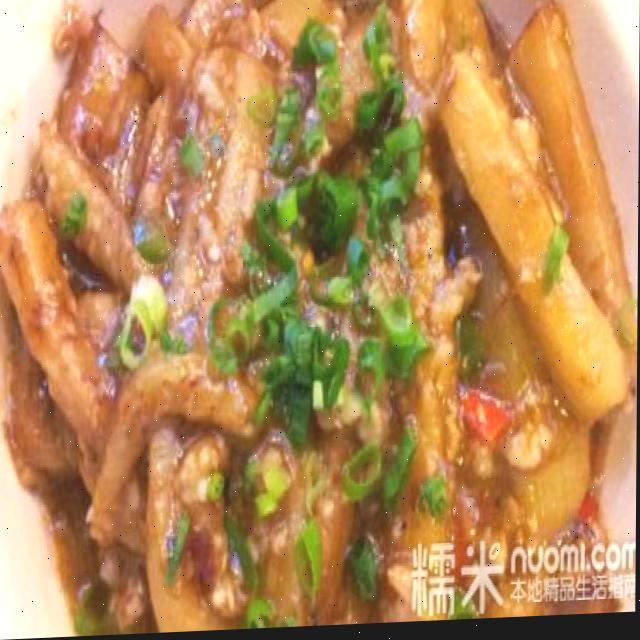鸡蛋料理: (40, 0, 599, 620)
